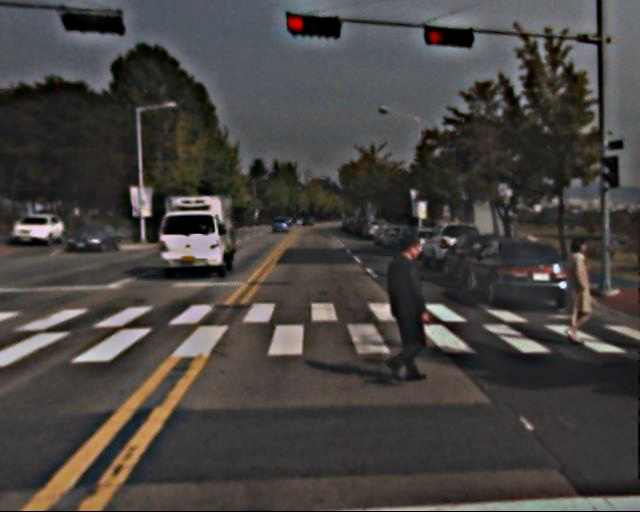person: (379, 238, 438, 383), (554, 237, 600, 349)
